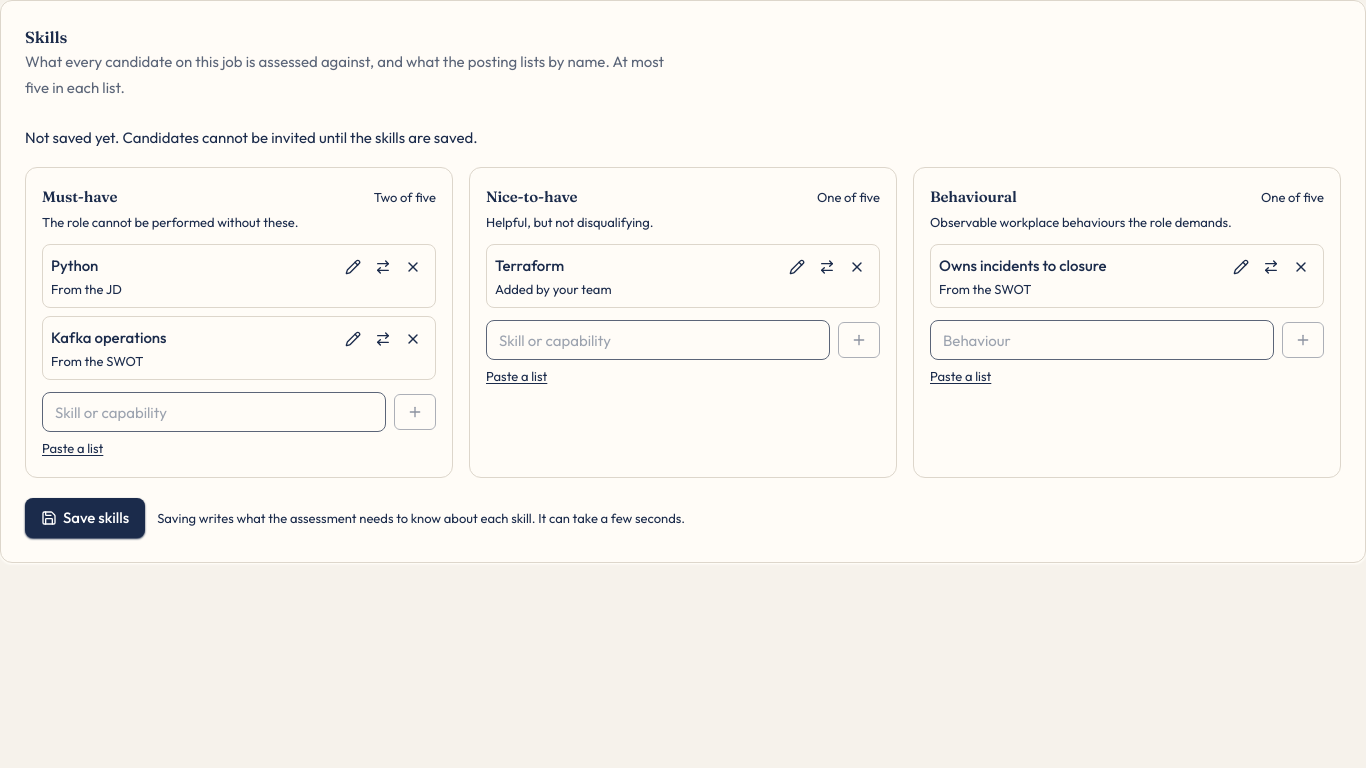
Test case: a user who may edit every bucket › saves, and shows a validation refusal naming every problem
Check: the text "Python" is shown, box [51, 256, 98, 275]
Click the button "Save skills" at (85, 518), box [25, 498, 145, 538]
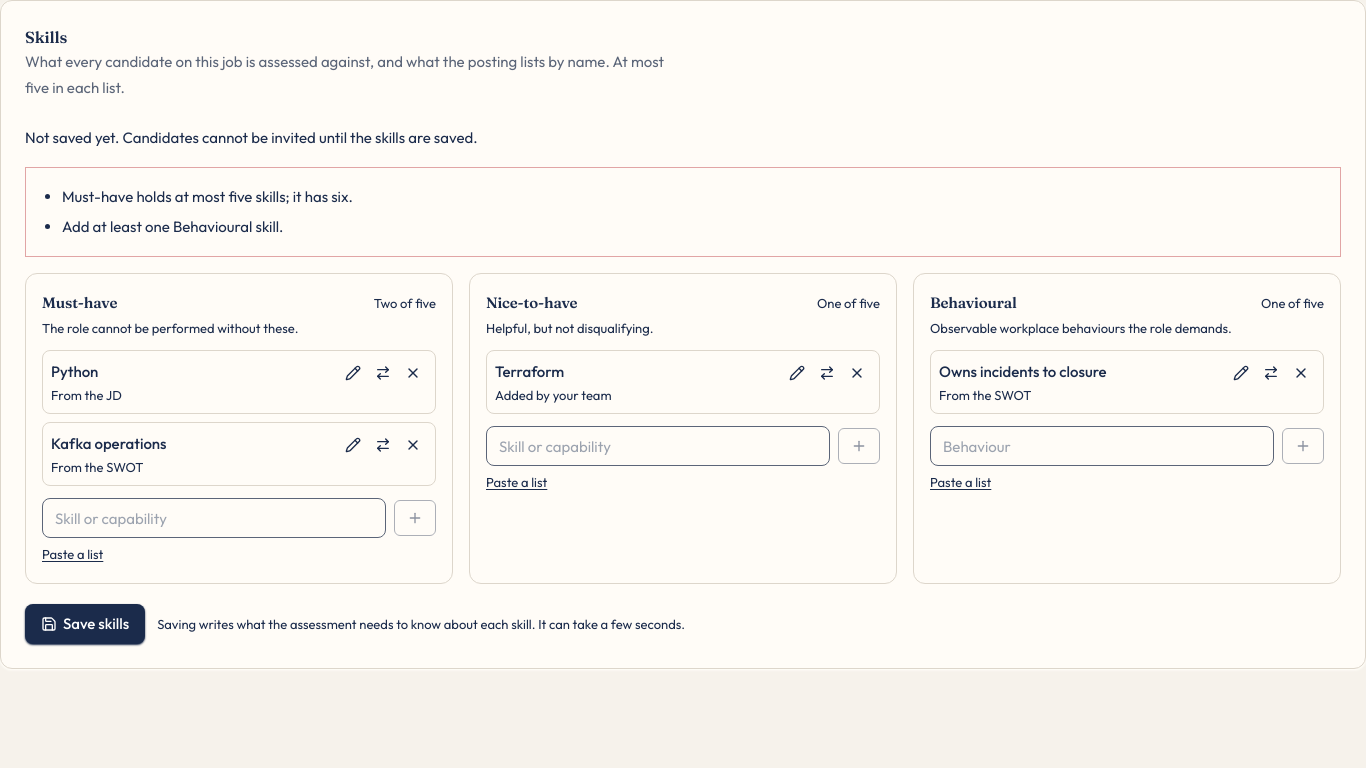
Check: the list item "Must-have holds at most five skills; it has six." is shown, box [62, 187, 353, 206]
Check: the list item "Add at least one Behavioural skill." is shown, box [62, 217, 284, 236]
